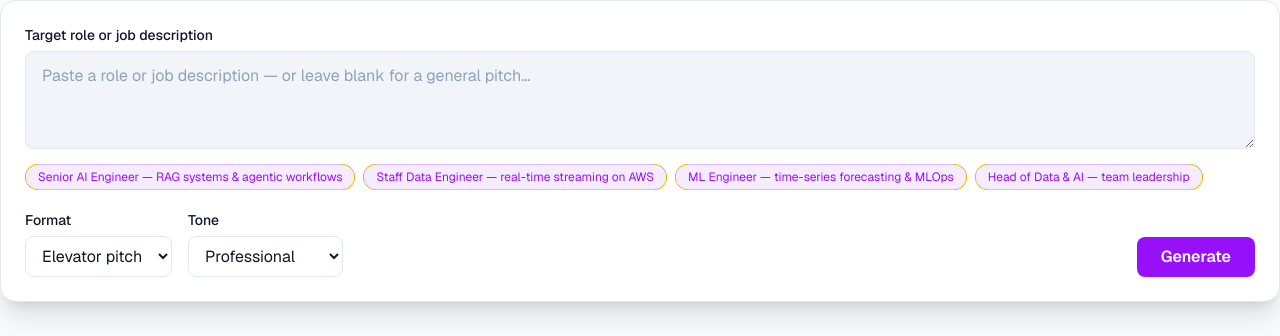
Test: ContentGenerator (streaming) › fills the brief when a suggested brief is clicked
This screenshot has width=1280, height=336.
Step 1. Click the button "ML Engineer — time-series forecasting & MLOps" → (821, 177), box [675,164,967,190]
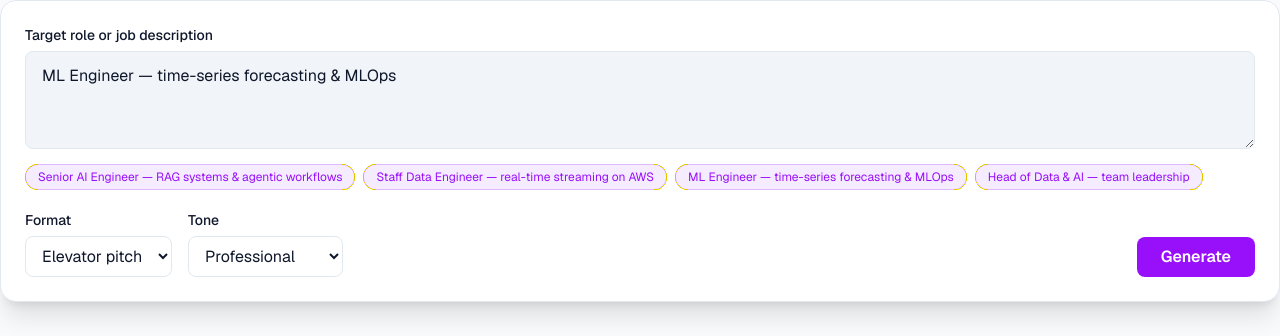
Expected: the text box labelled "Target role or job description" holds "ML Engineer — time-series forecasting & MLOps", [25,51,1255,149]
